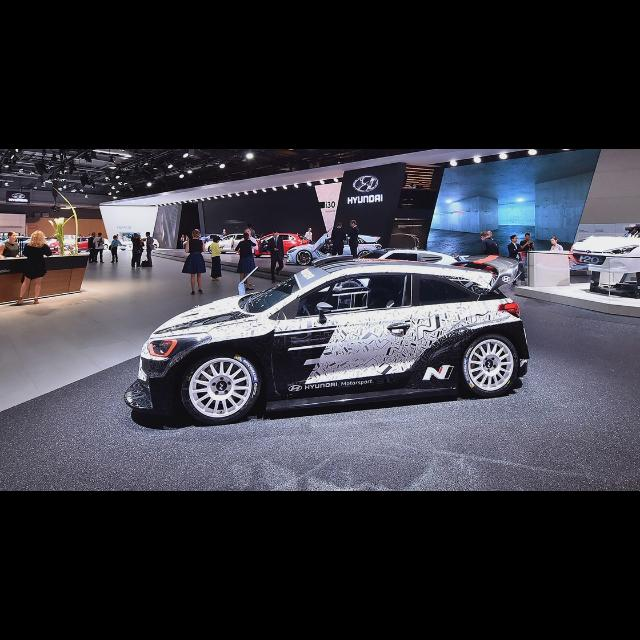head: (32, 232, 44, 242), (628, 224, 640, 234), (8, 232, 18, 242), (480, 232, 490, 242), (510, 234, 518, 243), (245, 228, 252, 238), (192, 230, 200, 238), (213, 236, 221, 244), (349, 220, 356, 228), (273, 231, 279, 239), (552, 238, 558, 246), (243, 233, 249, 240), (525, 233, 531, 240), (146, 232, 152, 238), (246, 224, 252, 230), (337, 223, 343, 229), (487, 232, 493, 238), (92, 232, 96, 238), (98, 233, 104, 237), (113, 236, 117, 240), (134, 234, 138, 238), (309, 228, 313, 232), (138, 235, 140, 239), (182, 235, 184, 237), (187, 237, 189, 239)
person: (14, 229, 54, 307), (180, 228, 208, 298), (0, 230, 22, 302), (476, 230, 499, 298), (234, 228, 260, 288), (234, 232, 258, 292), (266, 229, 288, 285), (542, 235, 566, 285), (507, 232, 527, 288), (480, 230, 500, 284), (518, 230, 538, 280), (329, 222, 348, 268), (348, 218, 362, 270), (209, 235, 223, 282), (243, 222, 257, 260), (132, 235, 146, 268), (130, 232, 142, 270), (86, 232, 100, 264), (92, 232, 106, 264), (143, 232, 155, 268), (109, 234, 123, 264), (302, 226, 314, 258), (182, 236, 192, 250), (180, 234, 186, 250)
